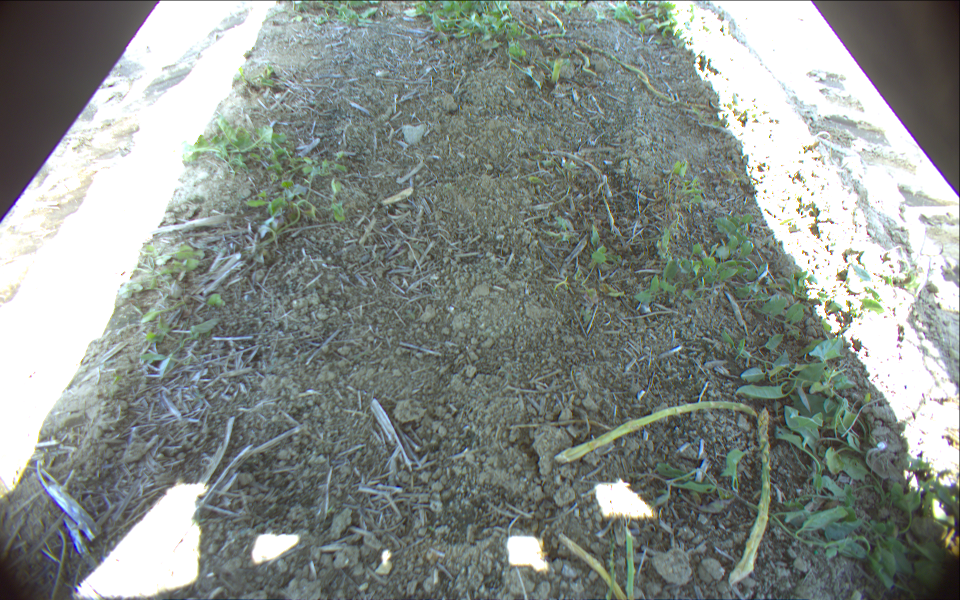aspa: (555, 401, 758, 464), (731, 406, 771, 587), (578, 40, 672, 101), (560, 533, 622, 600), (538, 8, 566, 39), (624, 525, 635, 600), (575, 47, 597, 75), (552, 58, 563, 82)
